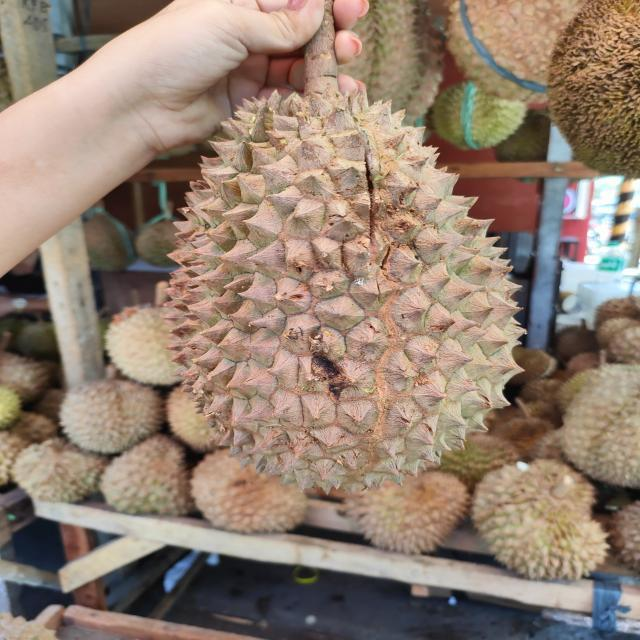mature: (151, 80, 527, 490)
